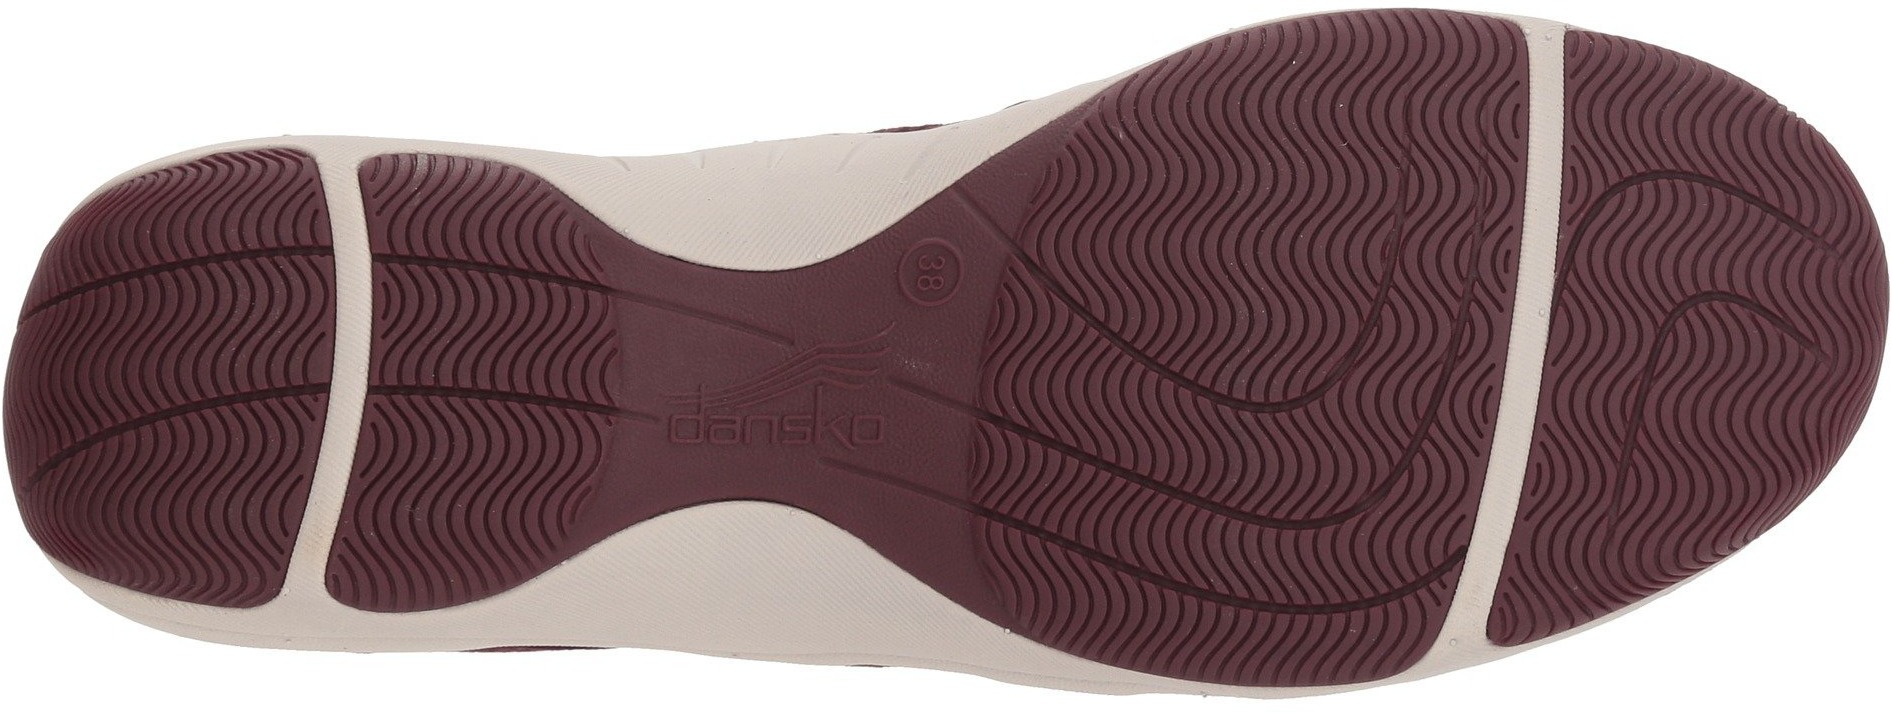chevron: (1081, 360, 1396, 649), (1570, 163, 1840, 448), (1117, 77, 1376, 344), (56, 258, 298, 486), (397, 259, 598, 469)
circle: (880, 228, 979, 310)
line: (1081, 360, 1396, 649), (1570, 163, 1840, 448), (56, 258, 298, 486), (397, 259, 598, 469), (668, 364, 801, 478)
text: (668, 364, 801, 478), (880, 228, 979, 310), (903, 241, 945, 302)
